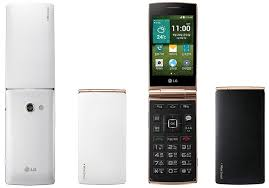lg: (3, 86, 59, 188), (146, 1, 200, 91)
